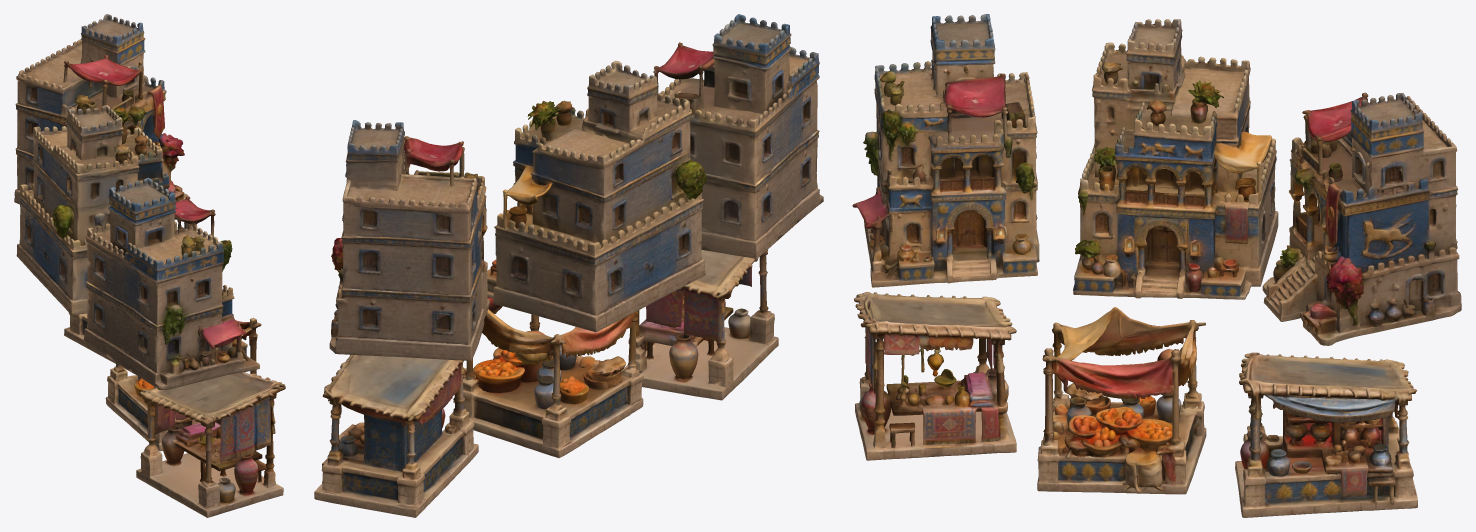
The model's file is مباني واكشاك.glb.
3 views of the same model, side by side, from view 1: azimuth 30°, elevation 25°; view 2: azimuth 150°, elevation 25°; view 3: azimuth 270°, elevation 25° (orthographic). The views are drawn at different scales.
Parts seen in each view (by area): view 1: world; view 2: world; view 3: world.
Boxes of the visible parts, x1,y1,x2,y2 form: world: (14, 14, 285, 517); world: (314, 14, 823, 517); world: (852, 14, 1461, 517).
Size of the model in its own units: 0.5363 by 0.7052 by 0.9998.
Materials: 1 (1 with a texture image).
